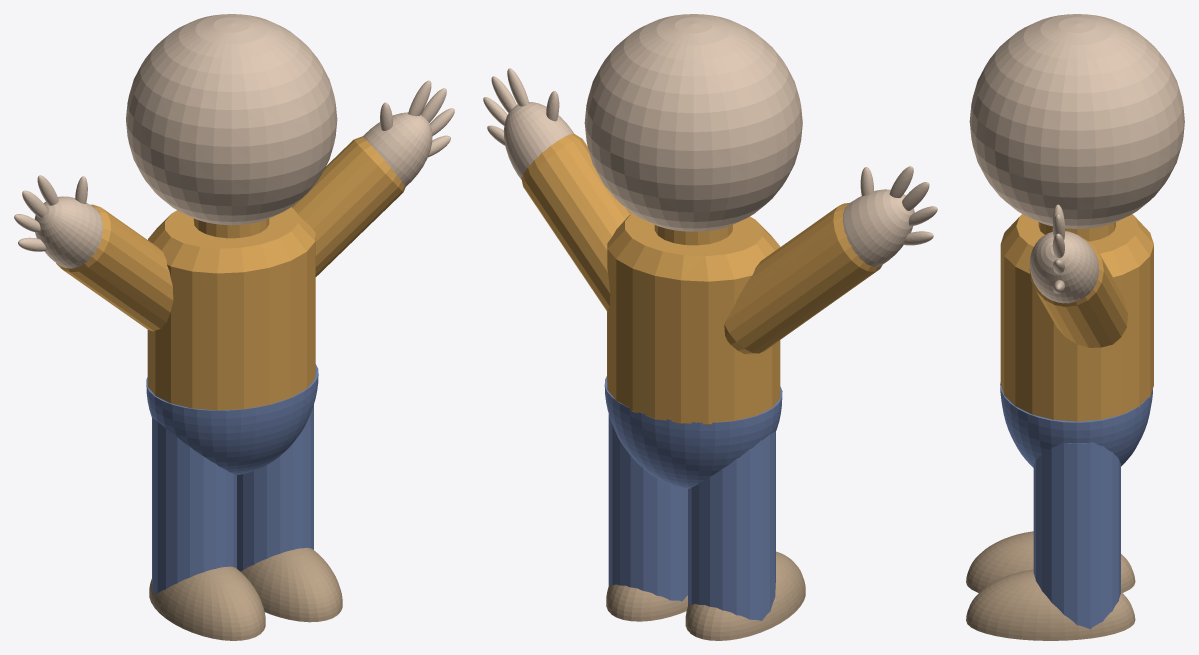
Rendered from boy_right.glb.
The picture shows the model from 3 angles, left to right: view 1: azimuth 30°, elevation 25°; view 2: azimuth 150°, elevation 25°; view 3: azimuth 270°, elevation 25°; orthographic projection. The views are drawn at different scales.
Parts seen in each view (by area): view 1: Mesh_Mesh_head_geo.001_lambert2SG.001; view 2: Mesh_Mesh_head_geo.001_lambert2SG.001; view 3: Mesh_Mesh_head_geo.001_lambert2SG.001.
Boxes of the visible parts, x1,y1,x2,y2 form: Mesh_Mesh_head_geo.001_lambert2SG.001: (14,14,454,640); Mesh_Mesh_head_geo.001_lambert2SG.001: (483,14,937,640); Mesh_Mesh_head_geo.001_lambert2SG.001: (966,14,1184,640).
Bounding box in the file's own units: 6.5 × 8 × 2.75.
